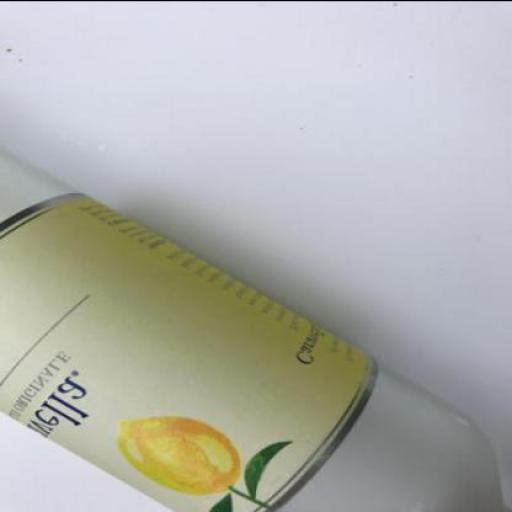glass: (0, 146, 511, 511)
